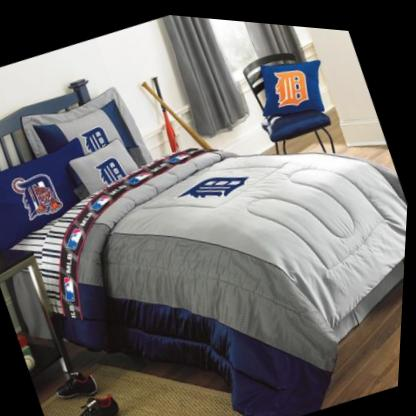Bed: (0, 86, 409, 402)
Carpet: (45, 366, 262, 416)
Chair: (236, 32, 346, 170)
Wooden floor: (326, 257, 407, 402)
